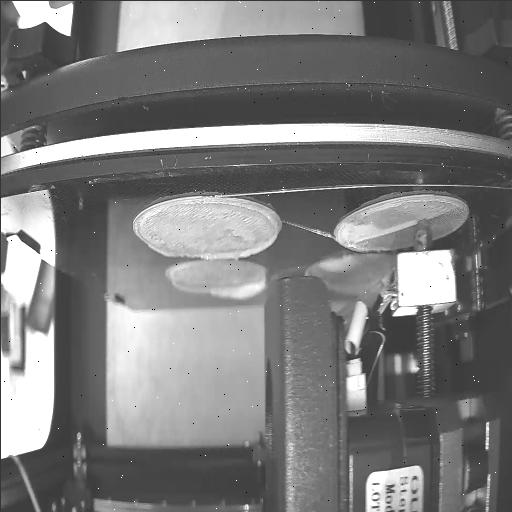over_extrusion: (196, 196, 278, 258), (352, 216, 418, 245), (208, 274, 267, 302), (171, 277, 206, 295), (147, 242, 178, 258)
